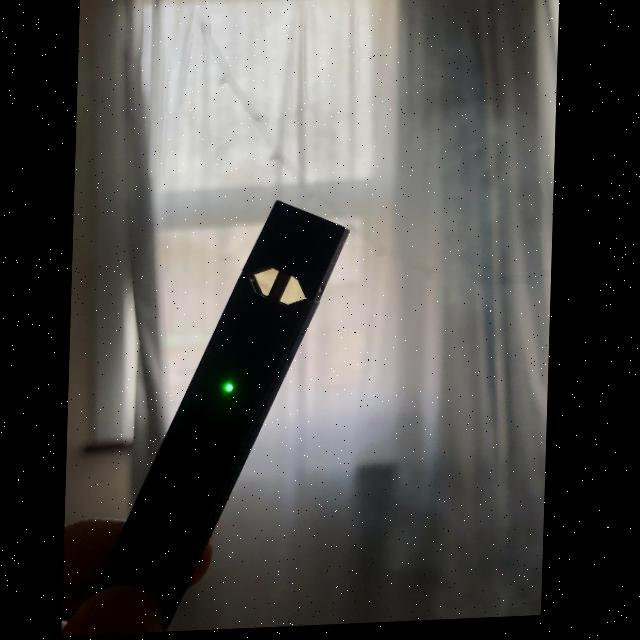vape: (95, 199, 354, 636)
